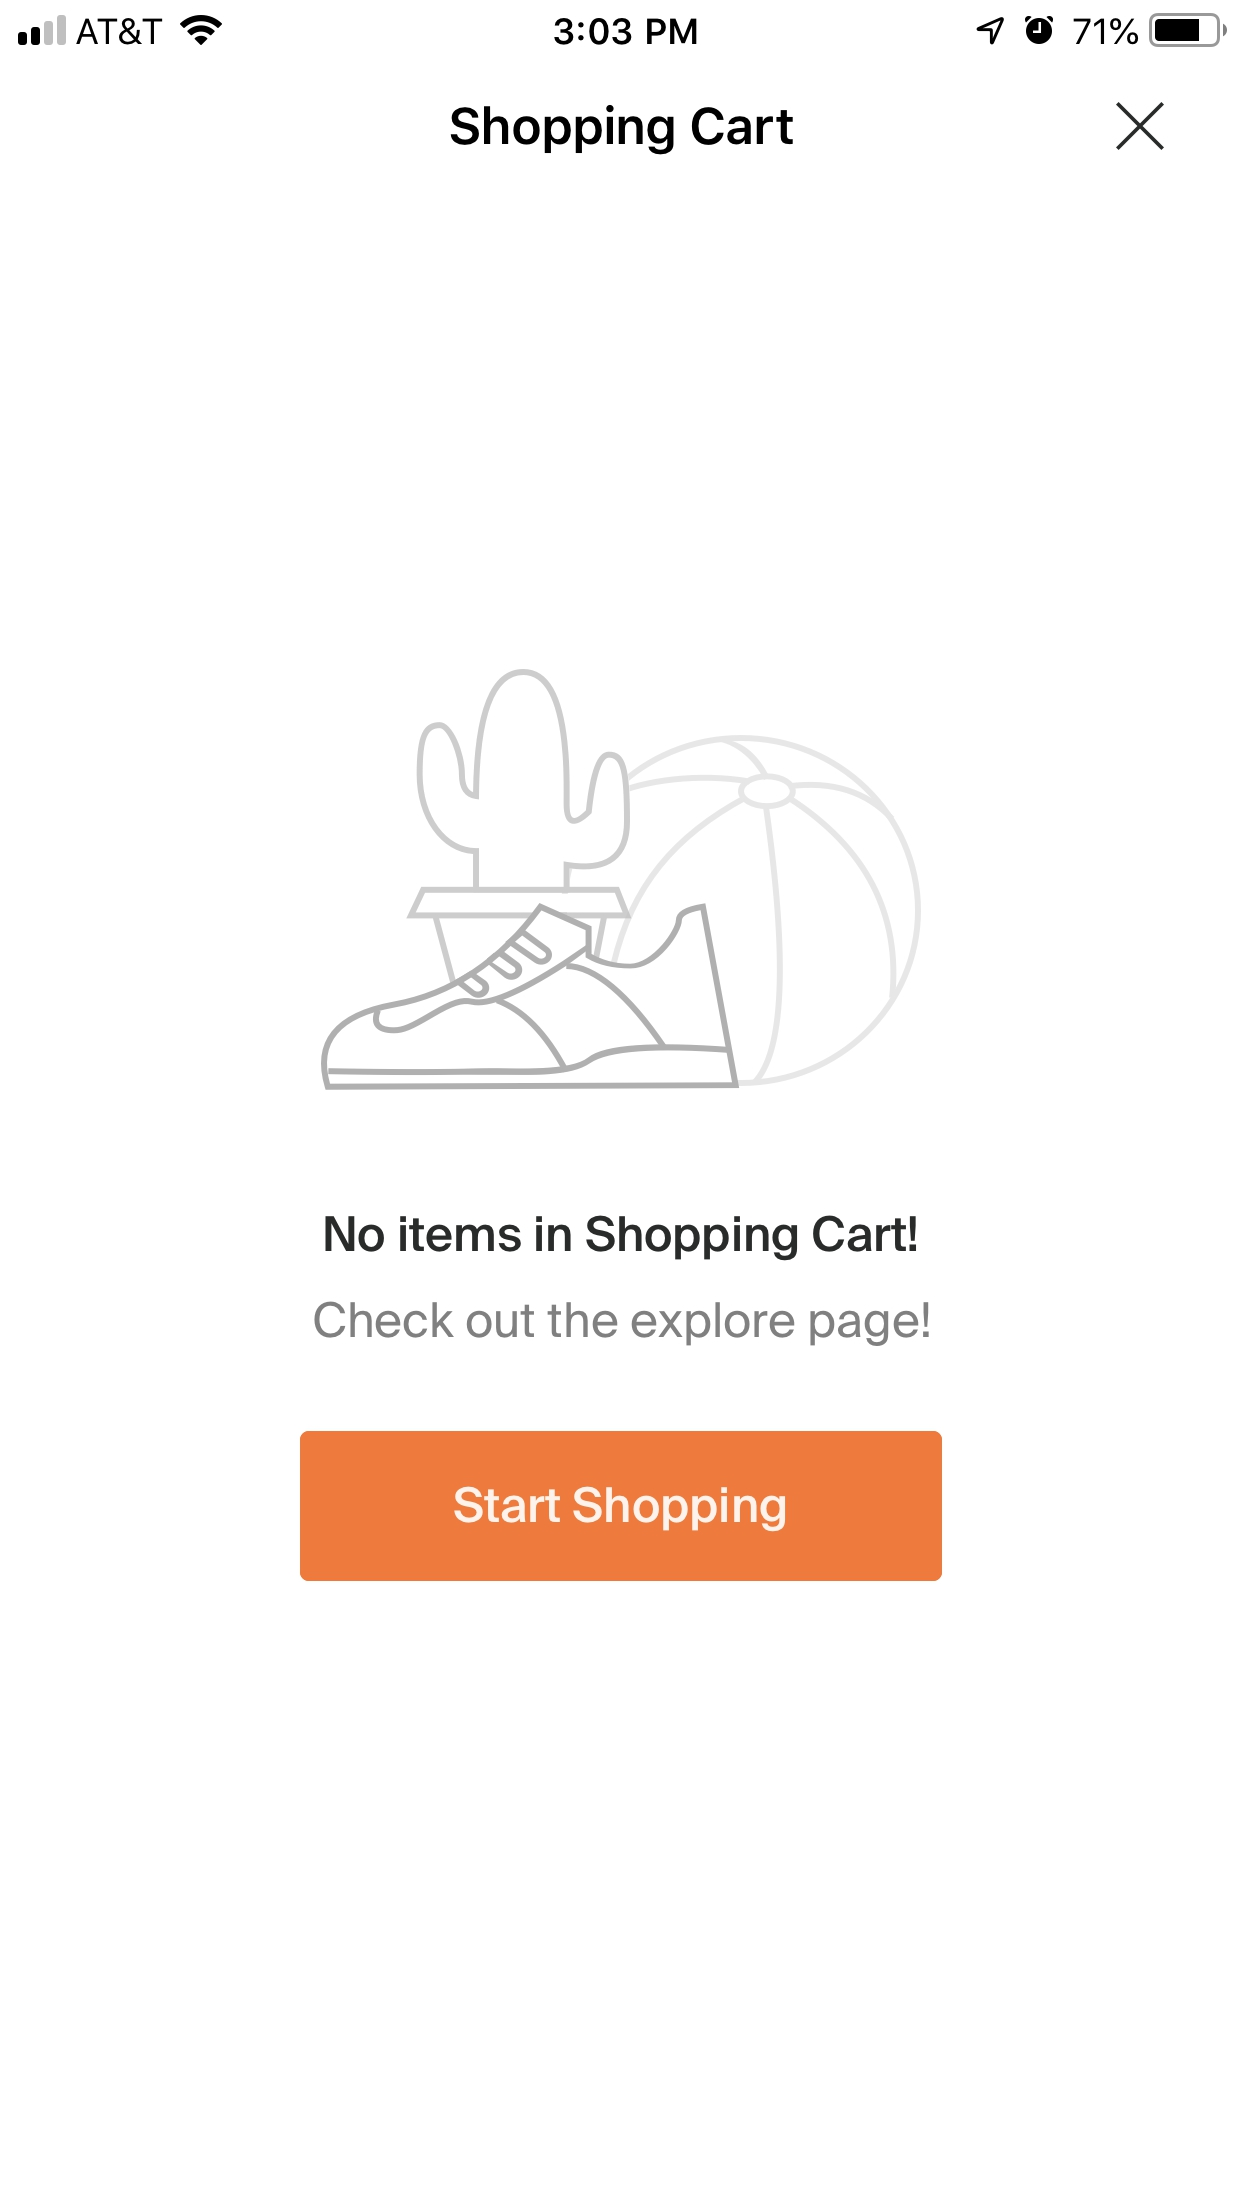Icon: (1116, 103, 1165, 152)
Image: (318, 667, 924, 1092)
Text: (314, 1300, 930, 1347), (325, 1215, 917, 1262), (450, 106, 795, 156)
TextButton: (300, 1432, 943, 1582)
UpperTaskBar: (2, 2, 1242, 49)
